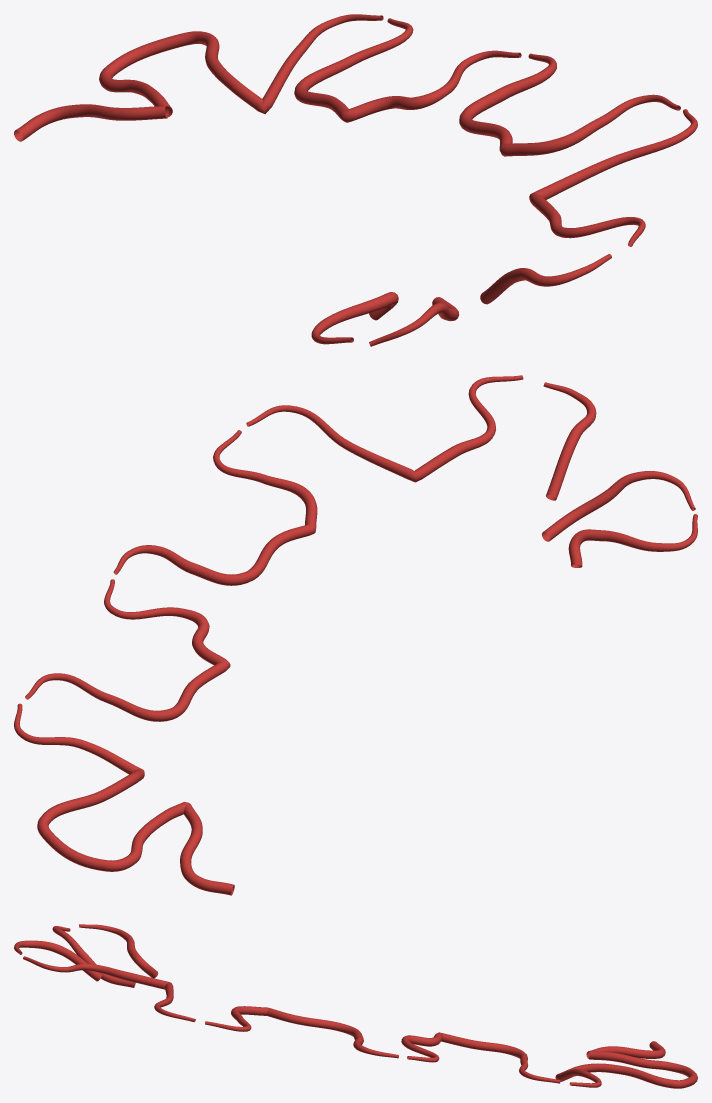
The picture shows the model from 3 angles, top to bottom: view 1: azimuth 30°, elevation 25°; view 2: azimuth 150°, elevation 25°; view 3: azimuth 270°, elevation 25°; orthographic projection. The views are drawn at different scales.
Parts seen in each view (by area): view 1: 左肾内动脉; view 2: 左肾内动脉; view 3: 左肾内动脉.
Boxes of the visible parts, x1,y1,x2,y2 form: 左肾内动脉: (14,14,697,346); 左肾内动脉: (14,375,697,895); 左肾内动脉: (14,924,697,1088).
Bounding box in the file's own units: 0.0586 × 0.0265 × 0.1168.
